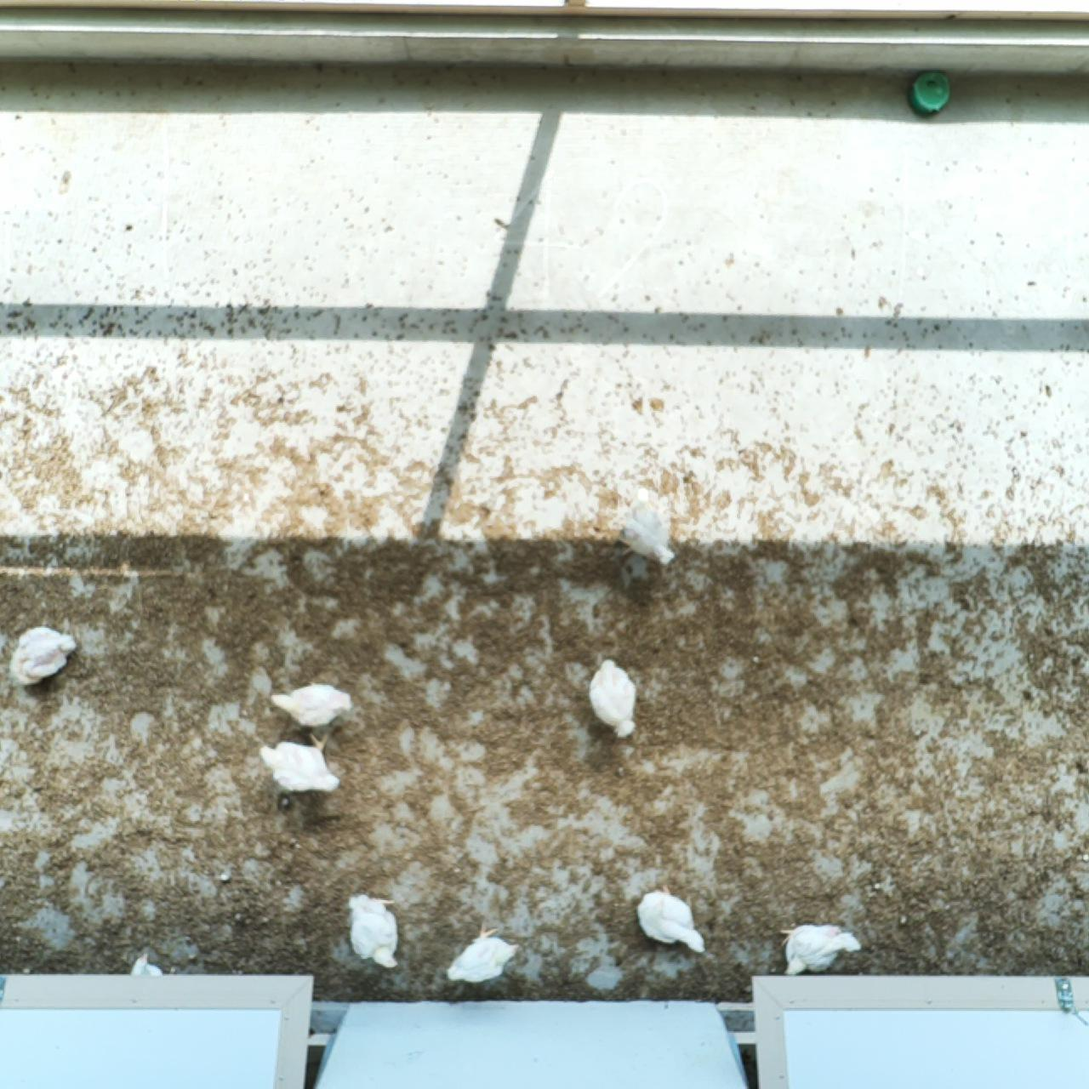chicken: (258, 727, 344, 796), (636, 882, 707, 954), (345, 890, 404, 971), (446, 921, 520, 984), (617, 491, 677, 568), (587, 656, 641, 741), (783, 921, 864, 976), (10, 623, 79, 687), (269, 679, 355, 728), (128, 950, 180, 980)
